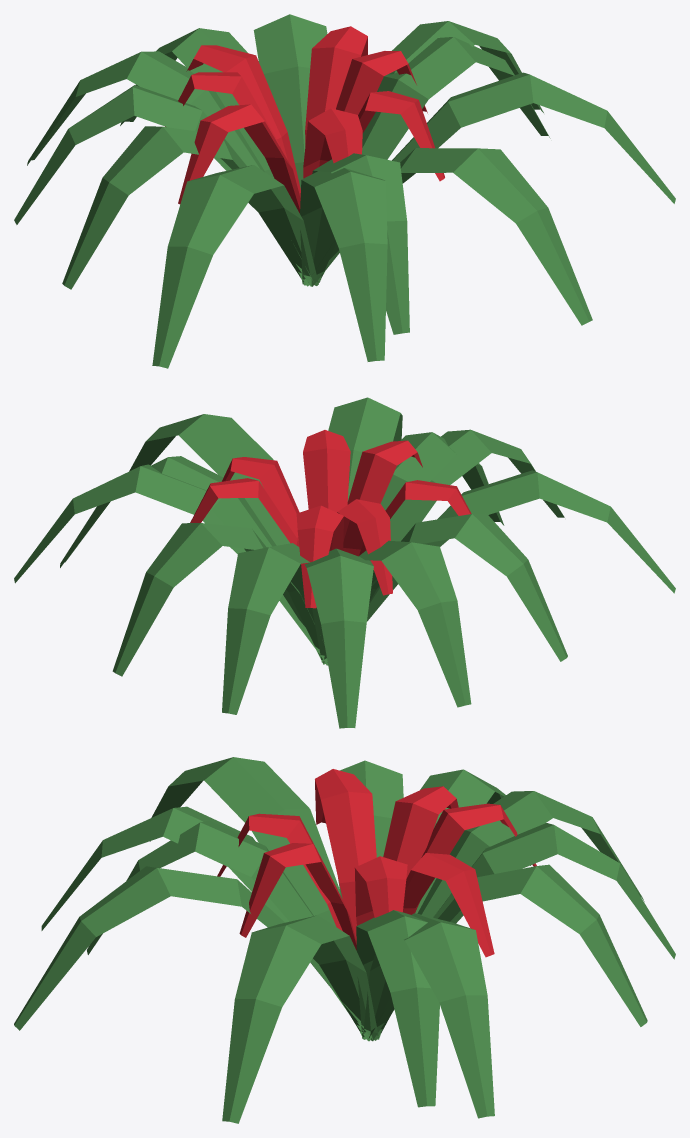
Rendered from JU_Plant_Bromeliad.obj.
3 views of the same model, one above another, from view 1: azimuth 30°, elevation 25°; view 2: azimuth 150°, elevation 25°; view 3: azimuth 270°, elevation 25° (orthographic). The views are drawn at different scales.
Visible parts, largest first — view 1: outer_5, outer_4, outer_2, outer_1, outer_6, outer_0, outer_10, outer_8, outer_7, outer_3, inner_3, inner_6 (+7 smaller); view 2: outer_9, outer_8, outer_7, outer_10, outer_6, outer_5, outer_1, outer_11, outer_3, outer_4, inner_1, outer_2 (+7 smaller); view 3: outer_1, outer_11, outer_0, outer_2, outer_5, outer_10, inner_3, outer_9, outer_8, outer_3, inner_6, outer_4 (+7 smaller).
Boxes of the visible parts, x1,y1,x2,y2 form: outer_5: [152, 165, 318, 368]; outer_4: [300, 168, 387, 361]; outer_2: [320, 148, 592, 325]; outer_1: [311, 72, 675, 286]; outer_6: [62, 126, 314, 289]; outer_0: [314, 37, 550, 285]; outer_10: [253, 14, 327, 282]; outer_8: [27, 51, 309, 286]; outer_7: [14, 85, 311, 286]; outer_3: [303, 153, 409, 334]; inner_3: [178, 104, 300, 213]; inner_6: [305, 26, 367, 145]; outer_9: [222, 543, 320, 714]; outer_8: [304, 548, 373, 728]; outer_7: [323, 540, 471, 707]; outer_10: [112, 523, 324, 676]; outer_6: [326, 513, 567, 664]; outer_5: [367, 470, 675, 621]; outer_1: [129, 414, 325, 664]; outer_11: [14, 464, 328, 665]; outer_3: [380, 432, 504, 540]; outer_4: [394, 429, 564, 541]; inner_1: [303, 430, 350, 512]; outer_2: [328, 397, 402, 501]; outer_1: [222, 915, 378, 1123]; outer_11: [362, 913, 494, 1118]; outer_0: [356, 910, 439, 1107]; outer_2: [14, 866, 373, 1040]; outer_5: [150, 757, 366, 1039]; outer_10: [368, 864, 647, 1038]; inner_3: [315, 769, 376, 940]; outer_9: [371, 823, 675, 1041]; outer_8: [374, 791, 644, 1040]; outer_3: [87, 820, 370, 1041]; inner_6: [403, 853, 494, 957]; outer_4: [41, 806, 368, 1041].
Bounding box in the file's own units: 3.76 × 1.31 × 3.72.
